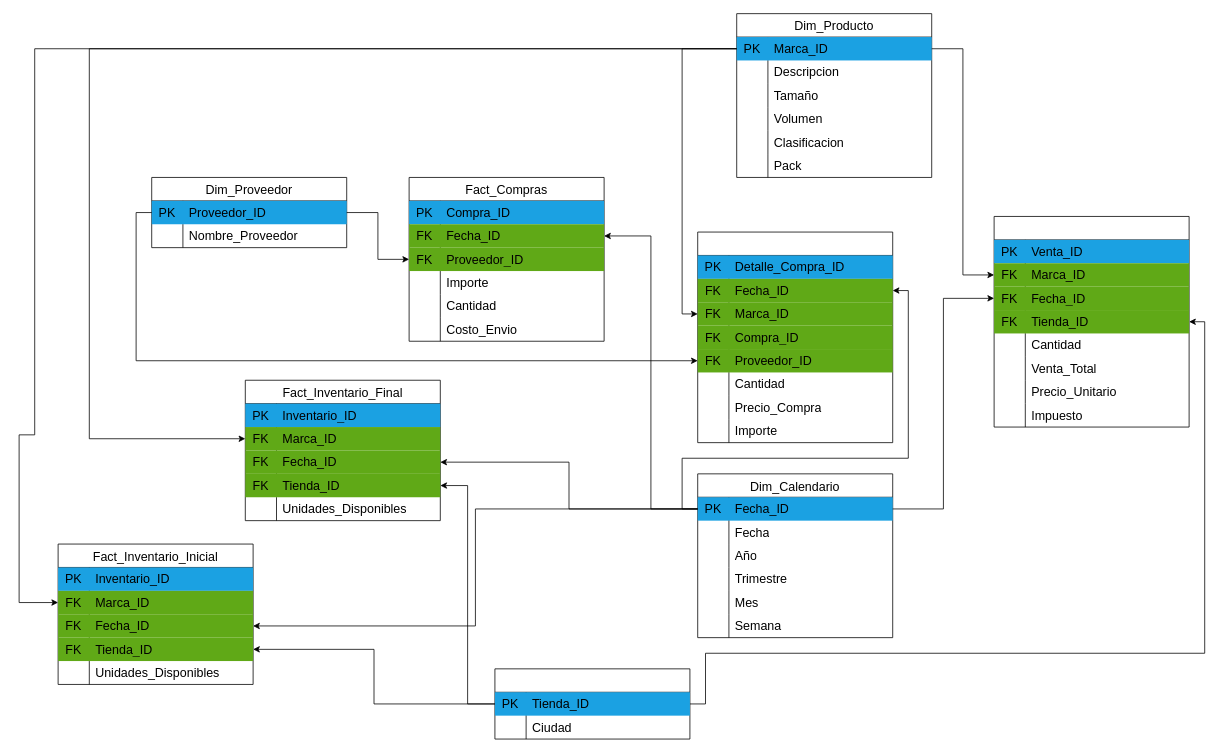
Image size: 1225x753. Some labels were removed from this diagram. The shapes that lost their labels are listed below. From the top down, each one's box as (x1, y1, x2, y2) in pixels, then its label:
(697, 231, 893, 443): Fact_Detalle_Compras
(993, 216, 1189, 427): Fact_Ventas
(494, 668, 690, 739): Dim_Tienda
